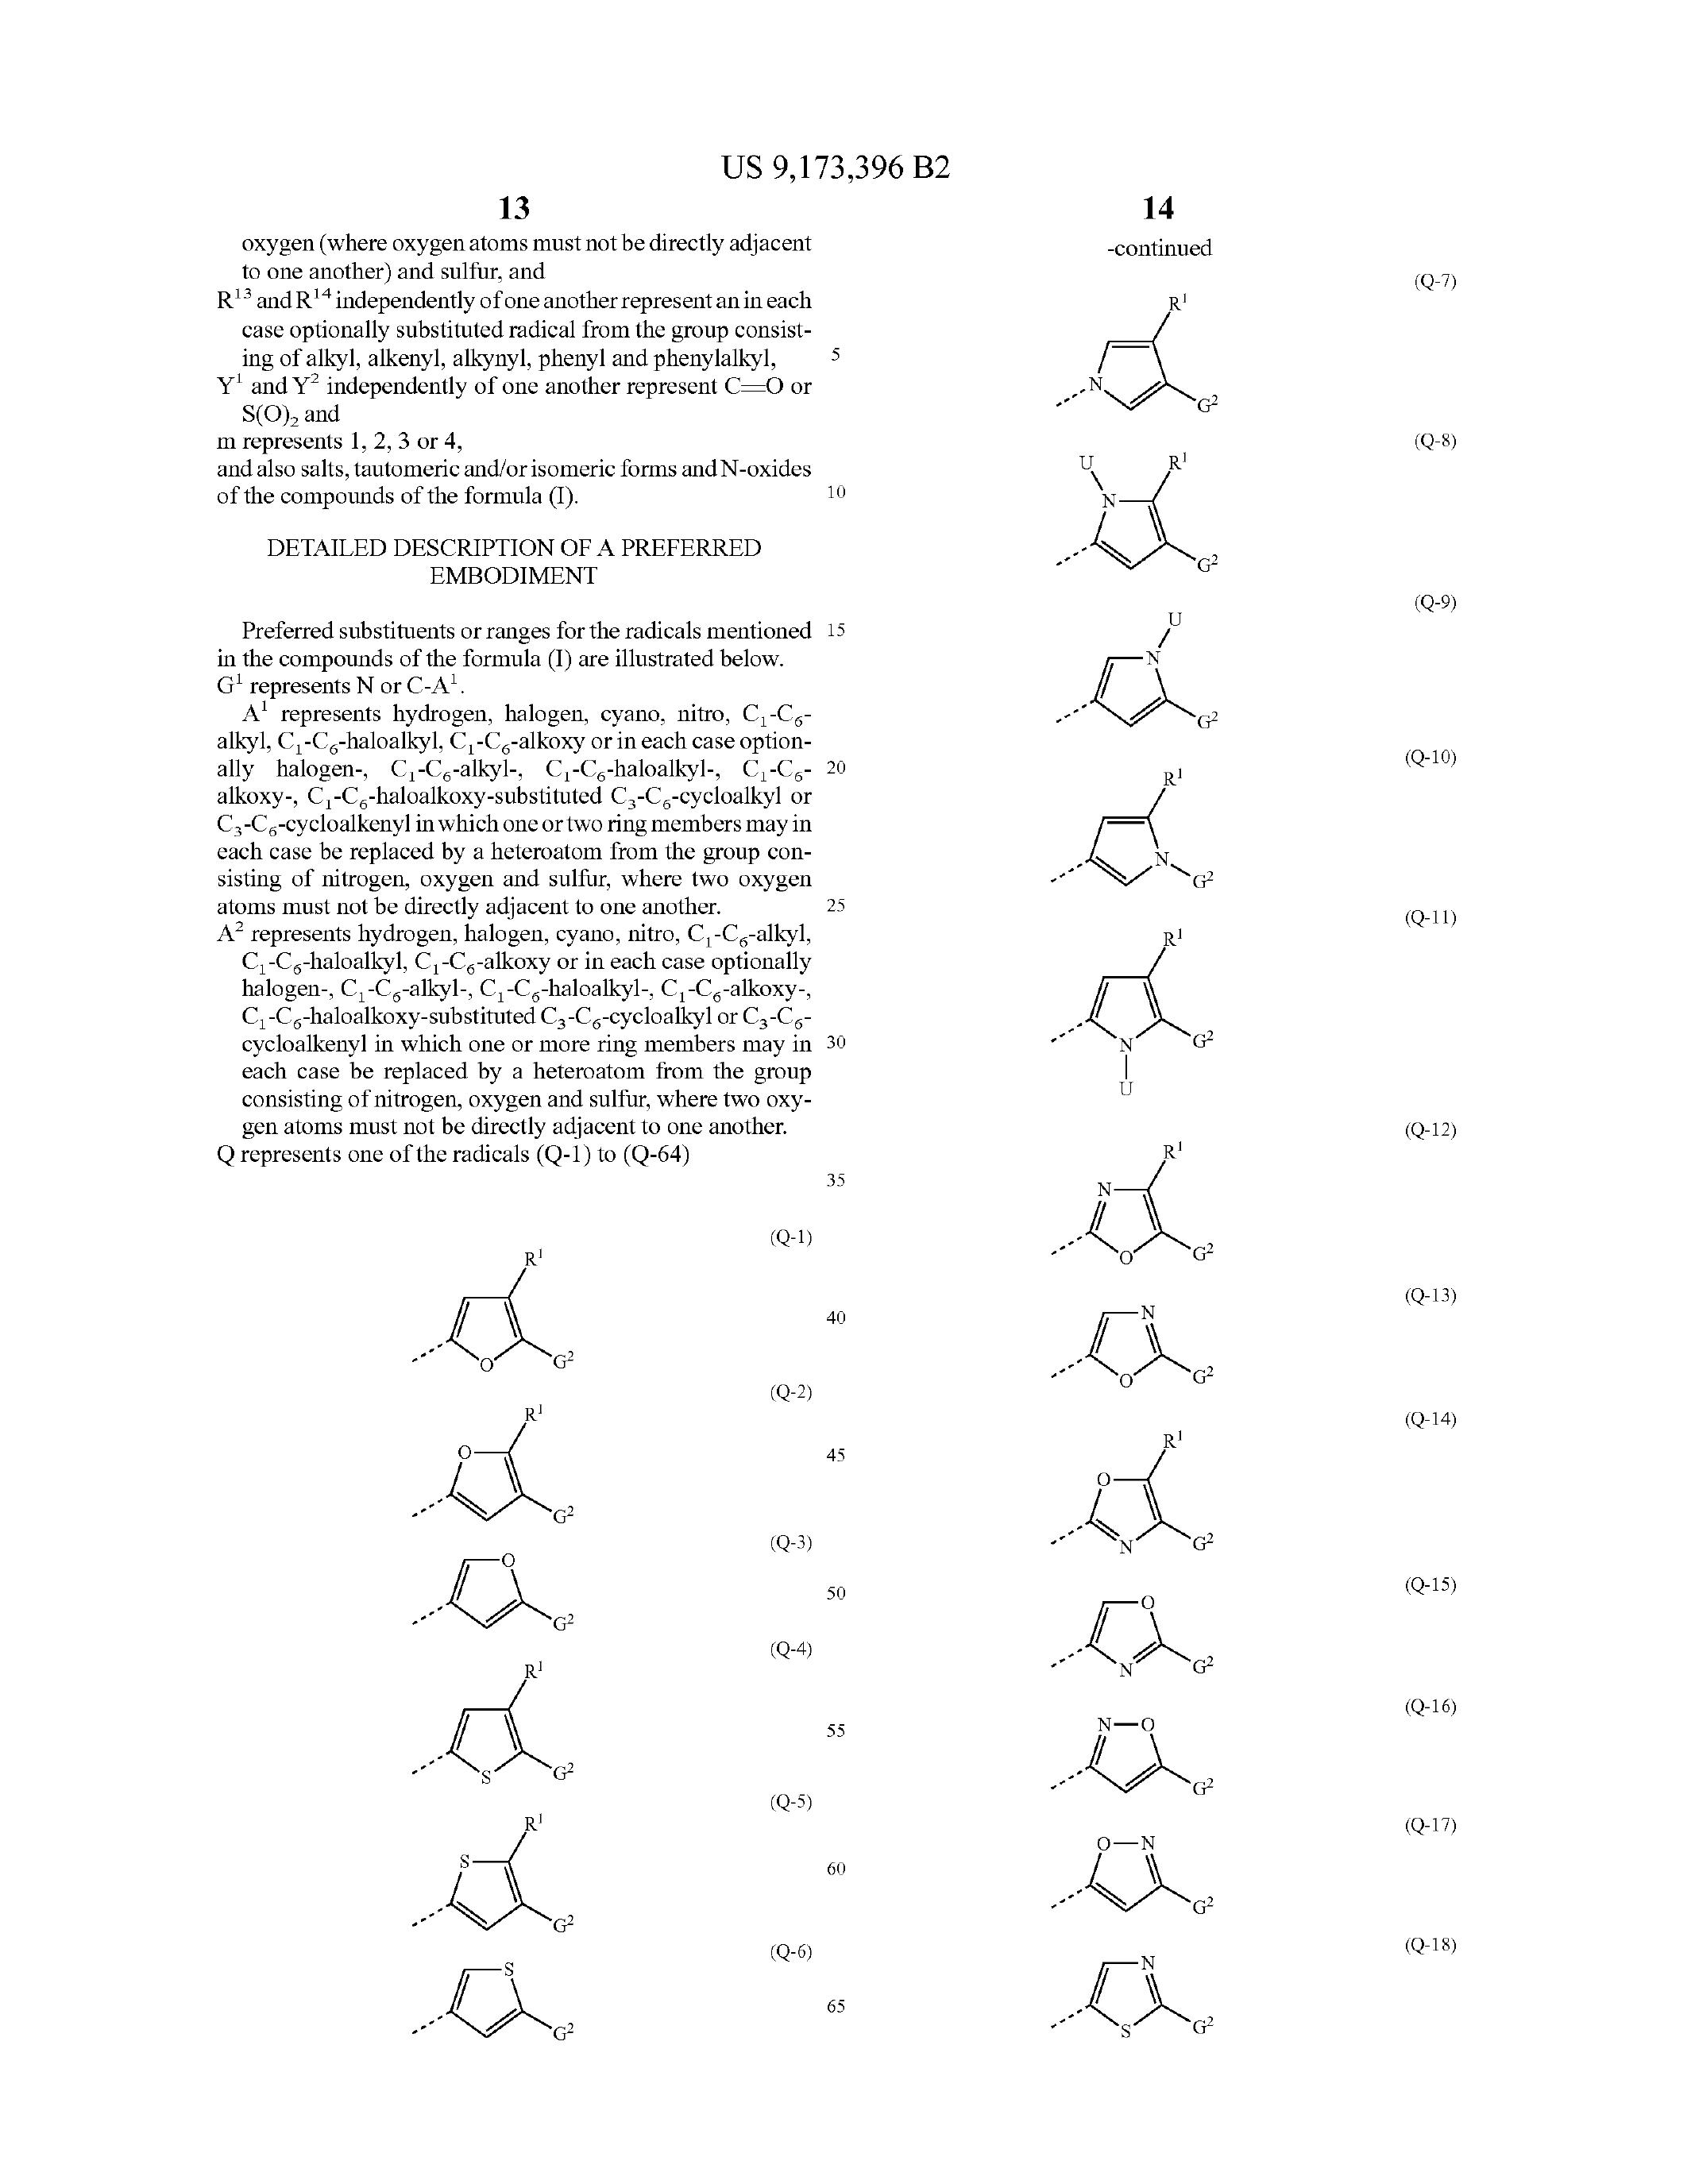substitutes: (199, 704, 899, 1140)
